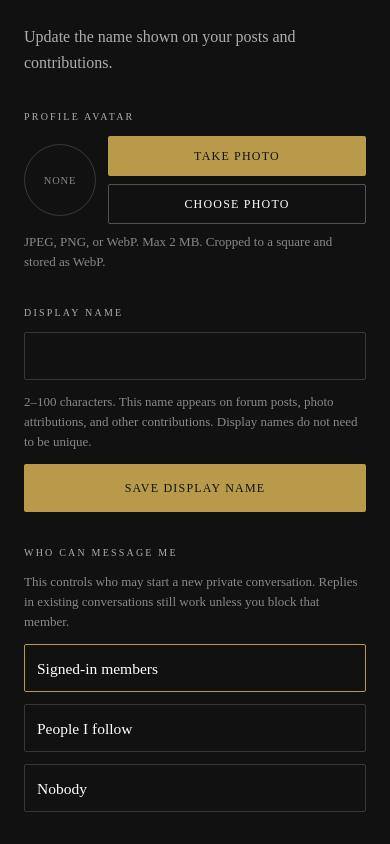
Test: SettingsScreen notifications › rejects an invalid display name without PATCHing
Step 1. Clear the field named "Display name" → (195, 356), box [24, 332, 366, 380]
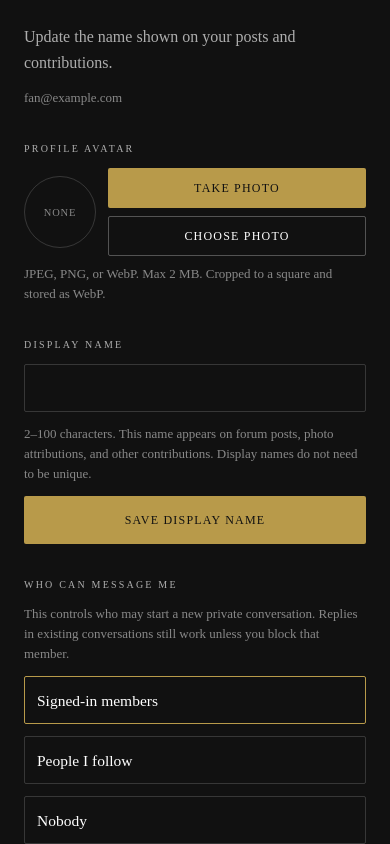
Step 2. Type "R" into the field named "Display name" → (195, 388), box [24, 364, 366, 412]
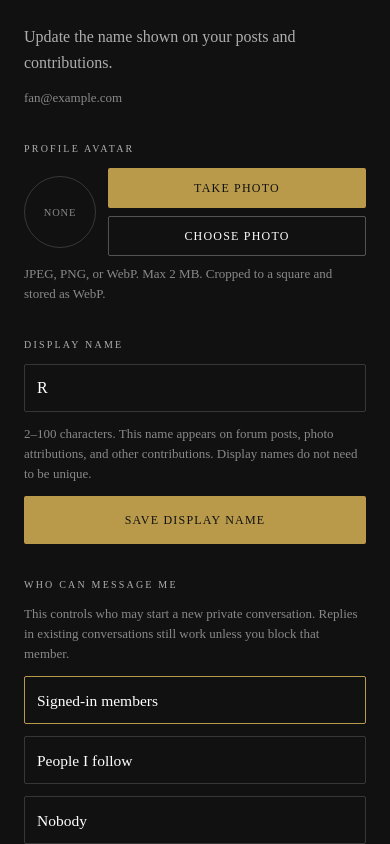
Step 3. Click the button "Save display name" → (195, 520), box [24, 496, 366, 544]
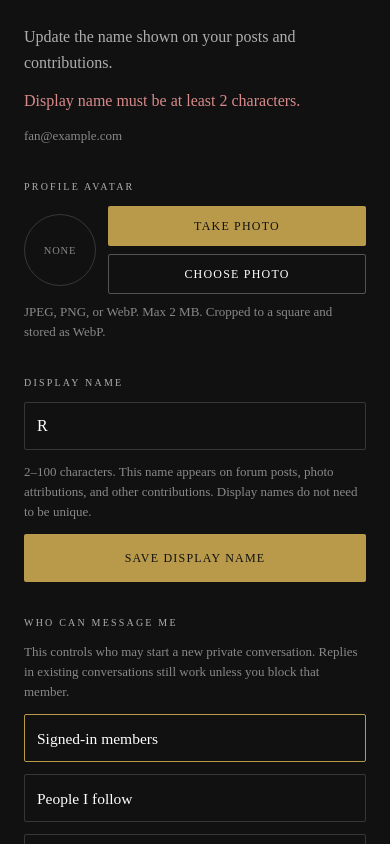
Now the text "Display name must be at least 2 characters." is shown, box [24, 92, 300, 109]
